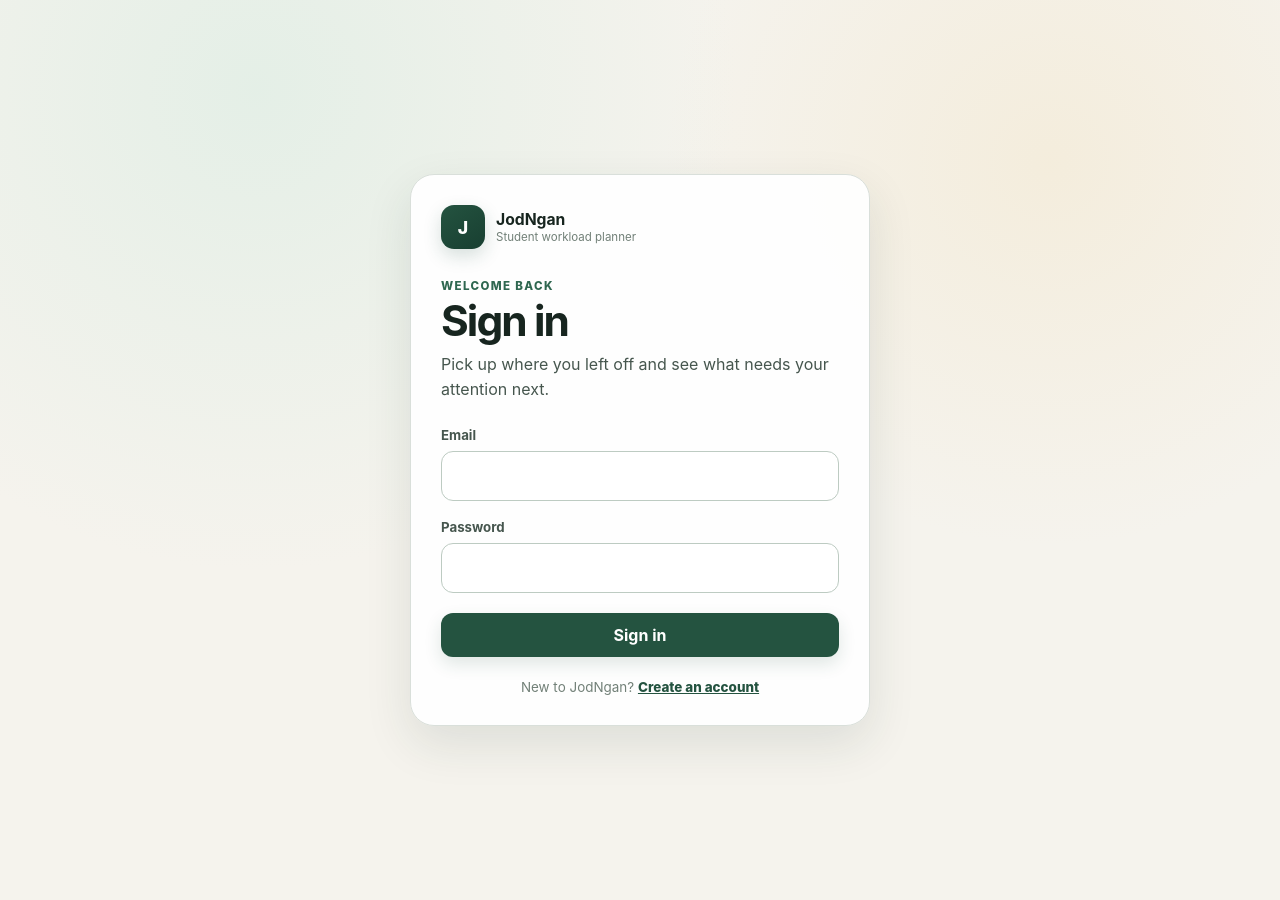
it: authentication flow › signs in and returns to the originally requested protected route
The width and height of the screenshot is (1280, 900).
Expected: the heading "Sign in" is shown, top-left (441, 295), bottom-right (568, 346)
Type "student@example.com" into the field labelled "Email" at point(640, 476), box top-left (441, 451), bottom-right (839, 501)
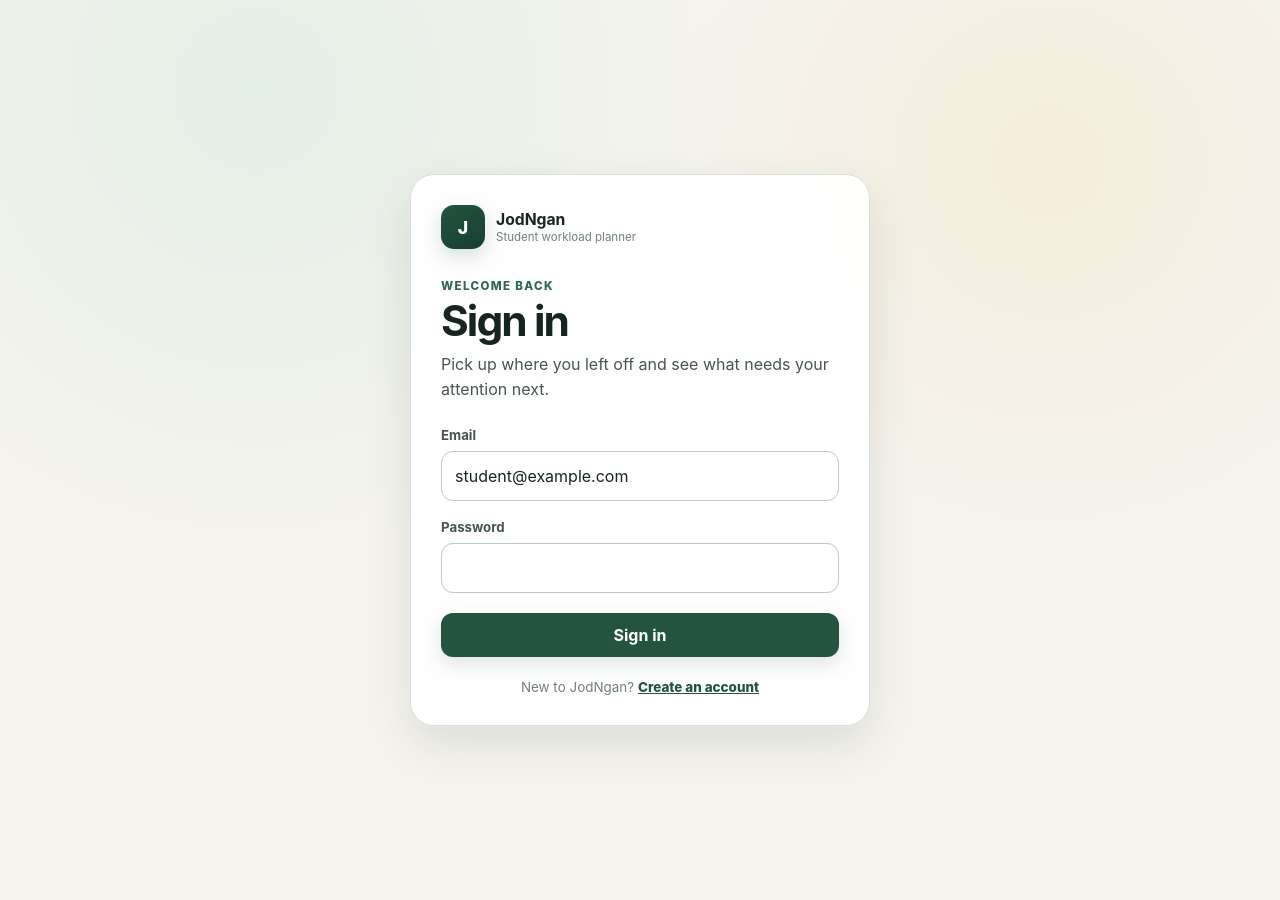
Type "password123" into the password field labelled "Password" at point(640, 568), box top-left (441, 543), bottom-right (839, 593)
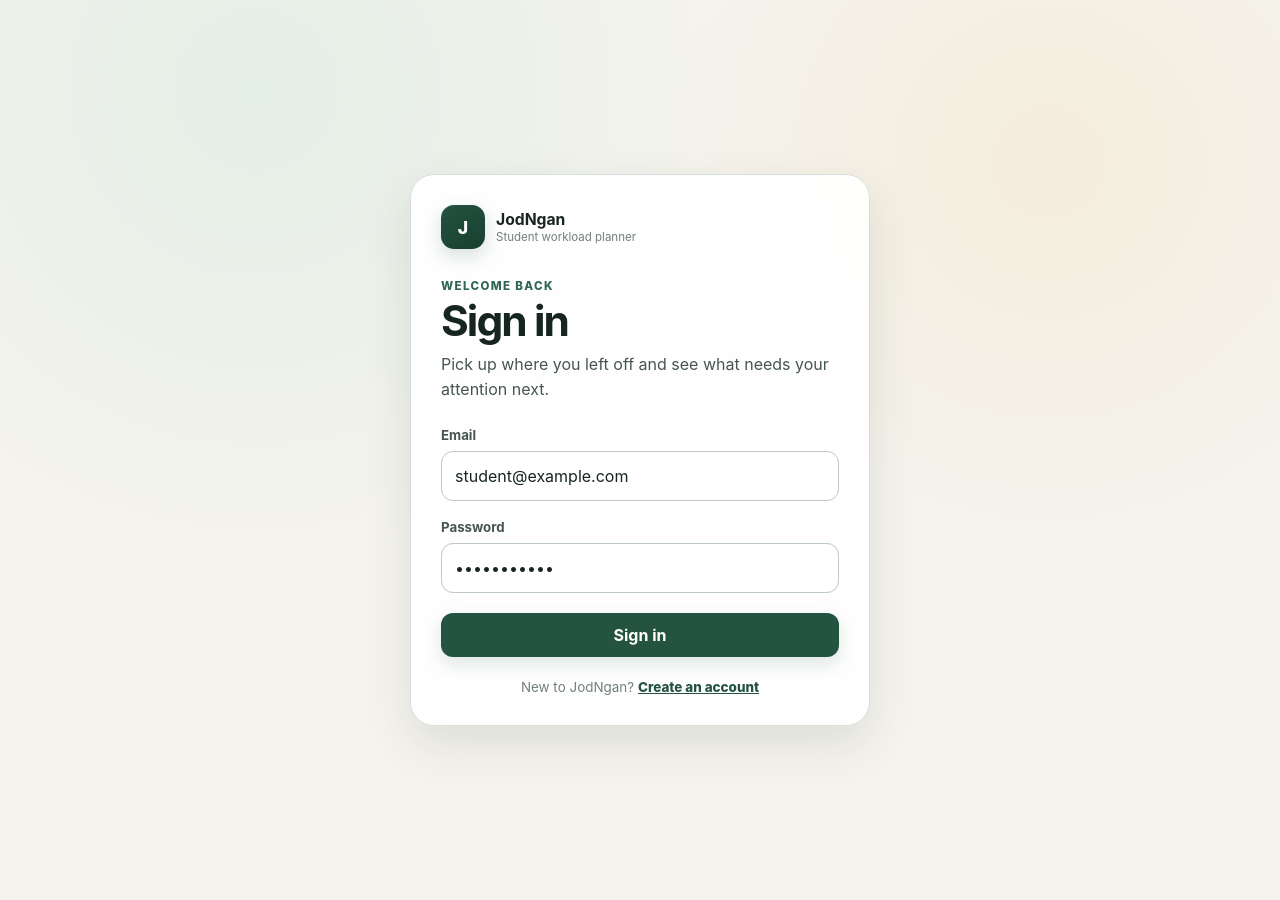
Click the button "Sign in" at point(640, 635), box top-left (441, 613), bottom-right (839, 657)
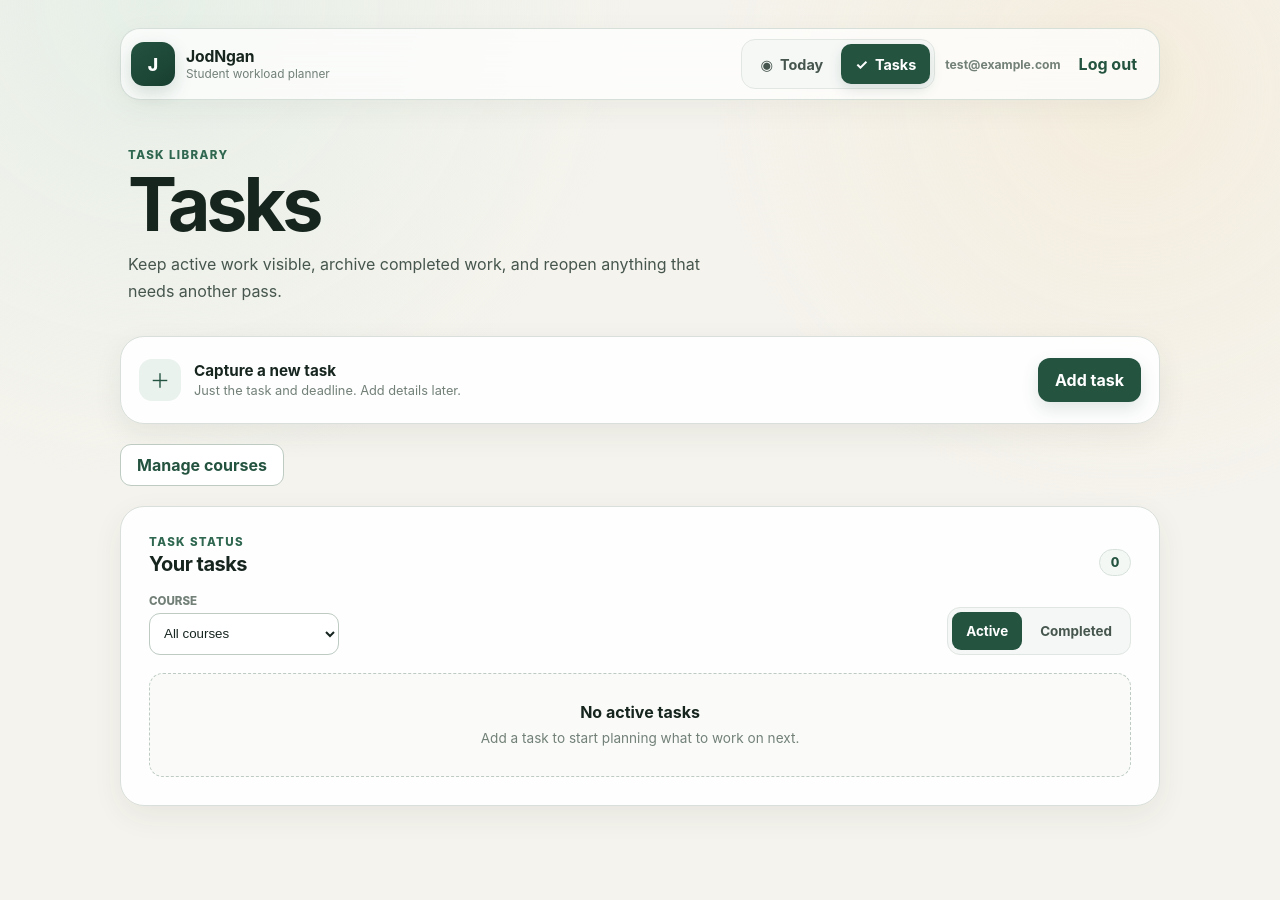
Expected: the heading "Tasks" is shown, top-left (128, 160), bottom-right (319, 249)
Expected: the text "test@example.com" is shown, top-left (945, 56), bottom-right (1061, 72)
